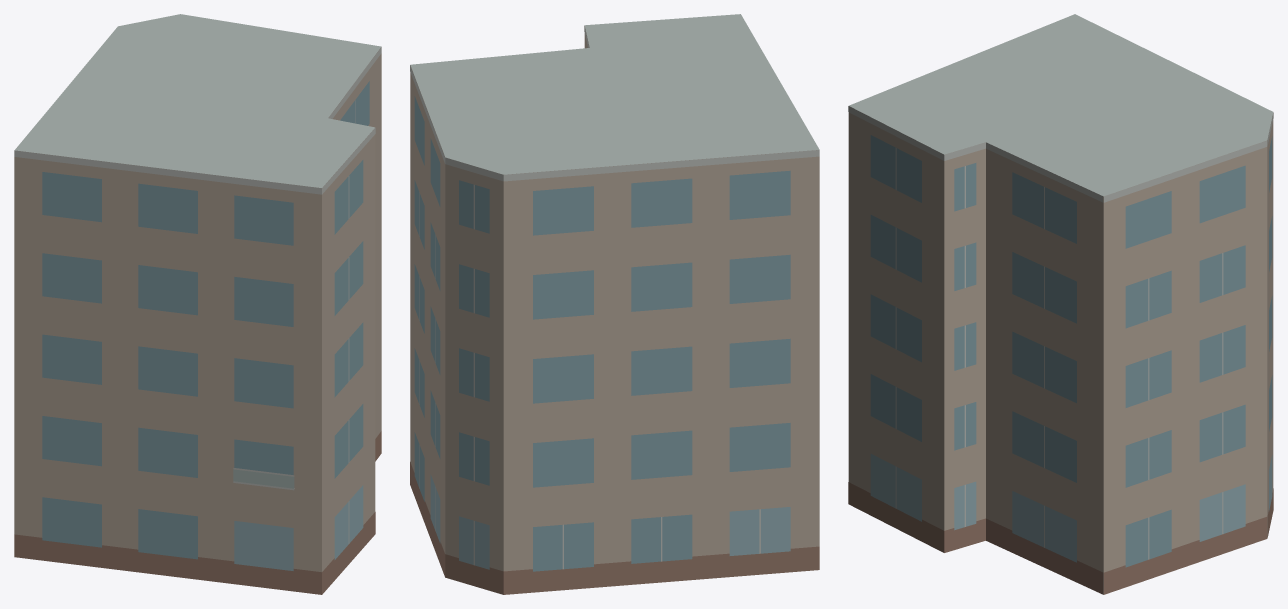
Rendered from survey-upis-32628305.glb.
3 views of the same model, side by side, from view 1: azimuth 30°, elevation 25°; view 2: azimuth 150°, elevation 25°; view 3: azimuth 270°, elevation 25° (orthographic). The views are drawn at different scales.
Parts seen in each view (by area): view 1: survey-upis-32628305.tmp; view 2: survey-upis-32628305.tmp; view 3: survey-upis-32628305.tmp.
Part boxes in pixels (bbox=[...]): survey-upis-32628305.tmp: bbox=[14, 14, 381, 594]; survey-upis-32628305.tmp: bbox=[410, 14, 819, 594]; survey-upis-32628305.tmp: bbox=[848, 14, 1273, 594].
Size of the model in its own units: 14.99 by 15.25 by 14.75.
